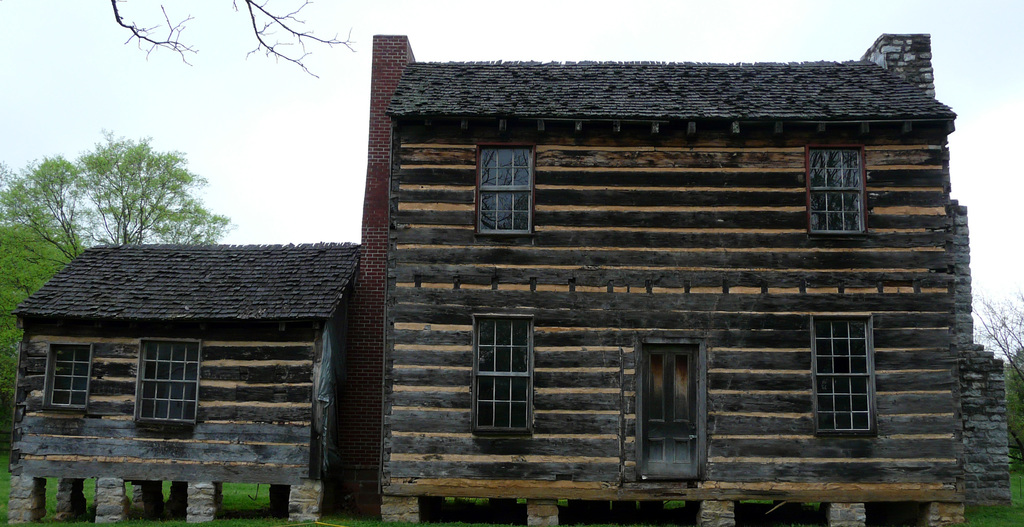Tree: (3, 131, 229, 273), (111, 0, 359, 79), (0, 219, 85, 385), (963, 287, 1023, 393), (1007, 357, 1023, 466)
